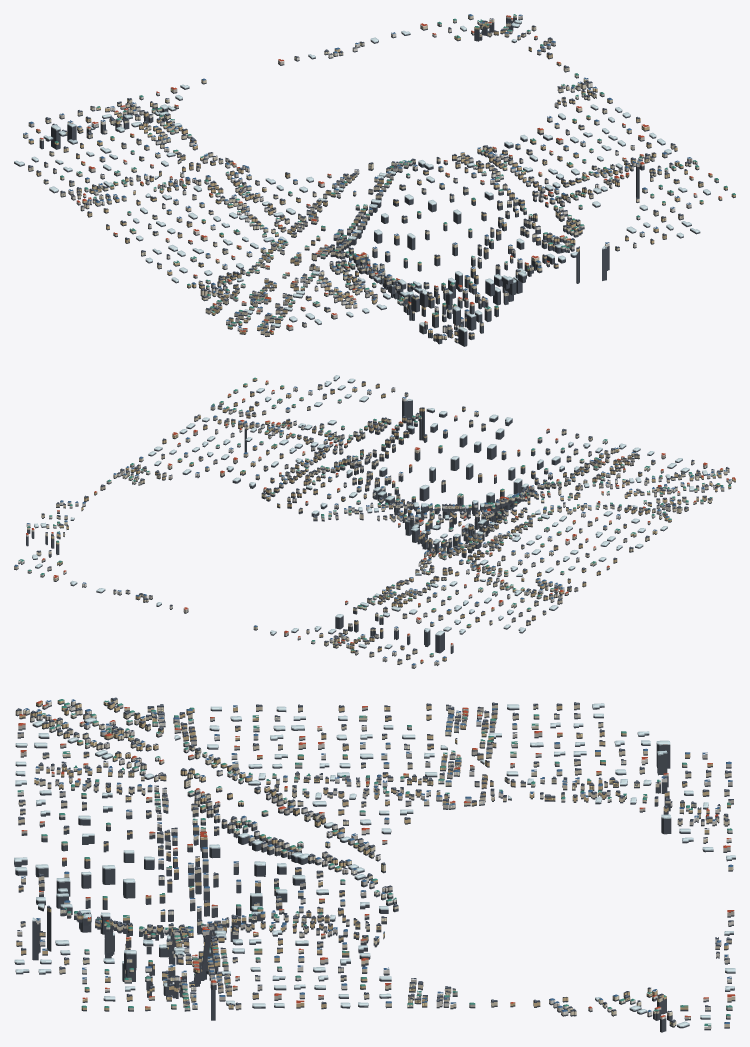
File: osm_buildings_T_W05_S02.glb
3 views of the same model, one above another, from view 1: azimuth 30°, elevation 25°; view 2: azimuth 150°, elevation 25°; view 3: azimuth 270°, elevation 25° (orthographic). The views are drawn at different scales.
Parts seen in each view (by area): view 1: OSM_T_W05_S02_foundation, OSM_T_W05_S02_wall_cream_stucco, OSM_T_W05_S02_wall_french_ochre, OSM_T_W05_S02_greenhouse_blend, OSM_T_W05_S02_roof_mansard_slate, OSM_T_W05_S02_wall_pastel_sand, OSM_T_W05_S02_wall_warm_white, OSM_T_W05_S02_roof_alpine_blue, OSM_T_W05_S02_roof_mansard_deck, OSM_T_W05_S02_roof_mint_metal, OSM_T_W05_S02_roof_terracotta; view 2: OSM_T_W05_S02_foundation, OSM_T_W05_S02_wall_cream_stucco, OSM_T_W05_S02_wall_french_ochre, OSM_T_W05_S02_greenhouse_blend, OSM_T_W05_S02_roof_mansard_slate, OSM_T_W05_S02_wall_pastel_sand, OSM_T_W05_S02_wall_warm_white, OSM_T_W05_S02_roof_alpine_blue, OSM_T_W05_S02_roof_mansard_deck, OSM_T_W05_S02_roof_mint_metal, OSM_T_W05_S02_roof_terracotta; view 3: OSM_T_W05_S02_foundation, OSM_T_W05_S02_greenhouse_blend, OSM_T_W05_S02_wall_cream_stucco, OSM_T_W05_S02_wall_french_ochre, OSM_T_W05_S02_roof_mansard_slate, OSM_T_W05_S02_wall_pastel_sand, OSM_T_W05_S02_wall_warm_white, OSM_T_W05_S02_roof_alpine_blue, OSM_T_W05_S02_roof_mint_metal, OSM_T_W05_S02_roof_mansard_deck, OSM_T_W05_S02_roof_terracotta.
Boxes of the visible parts, box(x1,y1,x2,y2) form: OSM_T_W05_S02_foundation: box(14, 17, 735, 346); OSM_T_W05_S02_wall_cream_stucco: box(28, 15, 699, 342); OSM_T_W05_S02_wall_french_ochre: box(28, 21, 735, 338); OSM_T_W05_S02_greenhouse_blend: box(14, 20, 710, 332); OSM_T_W05_S02_roof_mansard_slate: box(28, 18, 703, 340); OSM_T_W05_S02_wall_pastel_sand: box(23, 16, 718, 330); OSM_T_W05_S02_wall_warm_white: box(39, 16, 697, 332); OSM_T_W05_S02_roof_alpine_blue: box(23, 14, 691, 335); OSM_T_W05_S02_roof_mansard_deck: box(29, 24, 702, 339); OSM_T_W05_S02_roof_mint_metal: box(54, 14, 735, 326); OSM_T_W05_S02_roof_terracotta: box(36, 15, 721, 331); OSM_T_W05_S02_foundation: box(14, 377, 735, 668); OSM_T_W05_S02_wall_cream_stucco: box(14, 385, 729, 663); OSM_T_W05_S02_wall_french_ochre: box(51, 378, 735, 662); OSM_T_W05_S02_greenhouse_blend: box(32, 375, 707, 647); OSM_T_W05_S02_roof_mansard_slate: box(36, 381, 729, 661); OSM_T_W05_S02_wall_pastel_sand: box(27, 387, 728, 667); OSM_T_W05_S02_wall_warm_white: box(18, 391, 731, 647); OSM_T_W05_S02_roof_alpine_blue: box(14, 386, 731, 665); OSM_T_W05_S02_roof_mansard_deck: box(37, 381, 728, 660); OSM_T_W05_S02_roof_mint_metal: box(18, 377, 730, 654); OSM_T_W05_S02_roof_terracotta: box(26, 380, 735, 661); OSM_T_W05_S02_foundation: box(14, 702, 735, 1032); OSM_T_W05_S02_greenhouse_blend: box(14, 703, 735, 1026); OSM_T_W05_S02_wall_cream_stucco: box(15, 699, 735, 1027); OSM_T_W05_S02_wall_french_ochre: box(16, 700, 730, 1010); OSM_T_W05_S02_roof_mansard_slate: box(16, 698, 733, 1022); OSM_T_W05_S02_wall_pastel_sand: box(17, 701, 734, 1019); OSM_T_W05_S02_wall_warm_white: box(17, 701, 733, 1028); OSM_T_W05_S02_roof_alpine_blue: box(21, 699, 733, 1023); OSM_T_W05_S02_roof_mint_metal: box(17, 699, 732, 1026); OSM_T_W05_S02_roof_mansard_deck: box(17, 697, 731, 1021); OSM_T_W05_S02_roof_terracotta: box(18, 700, 735, 1017).
Size of the model in its own units: 1974 by 398 by 1887.
